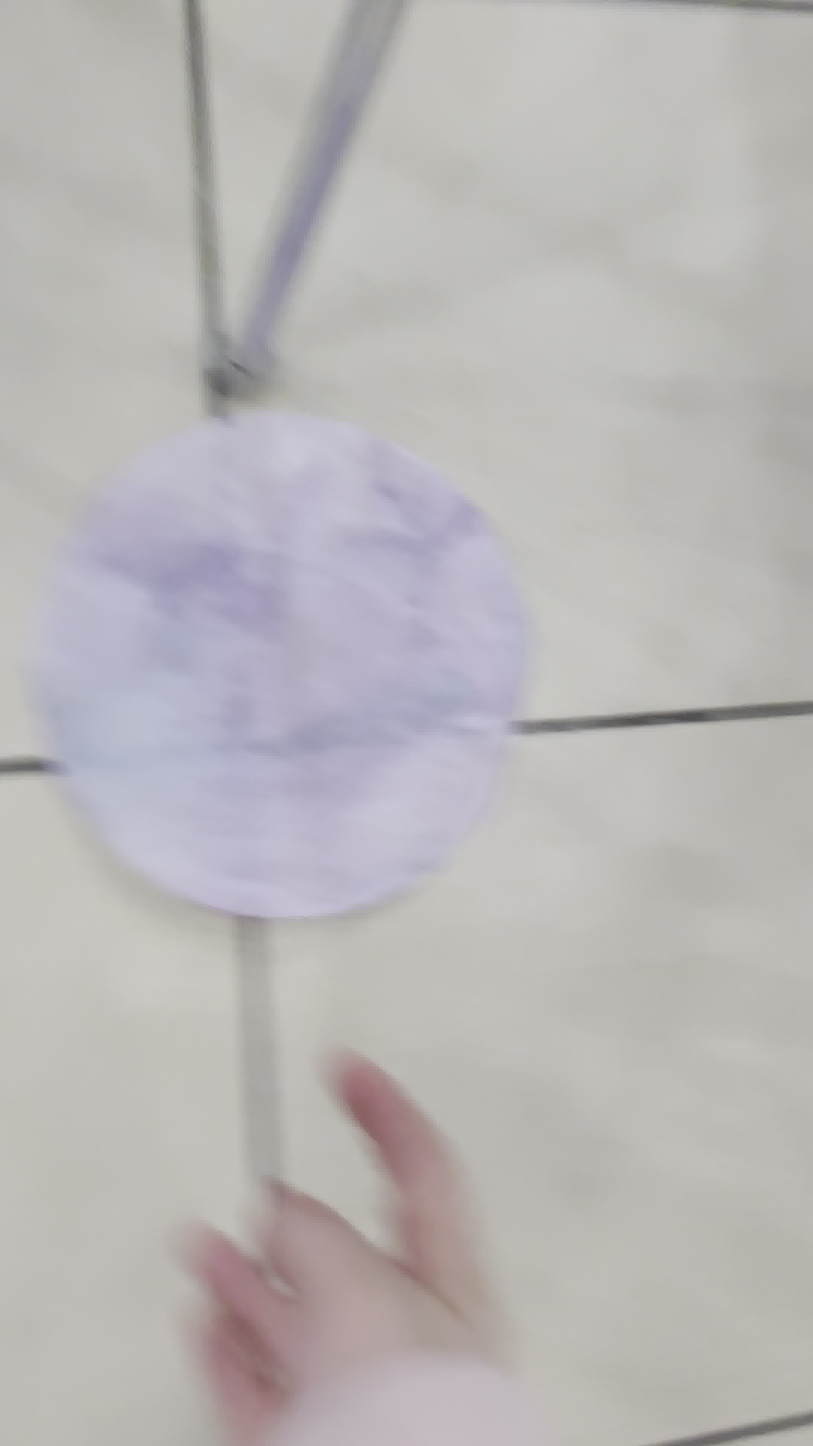Target: (17, 437, 561, 926)
